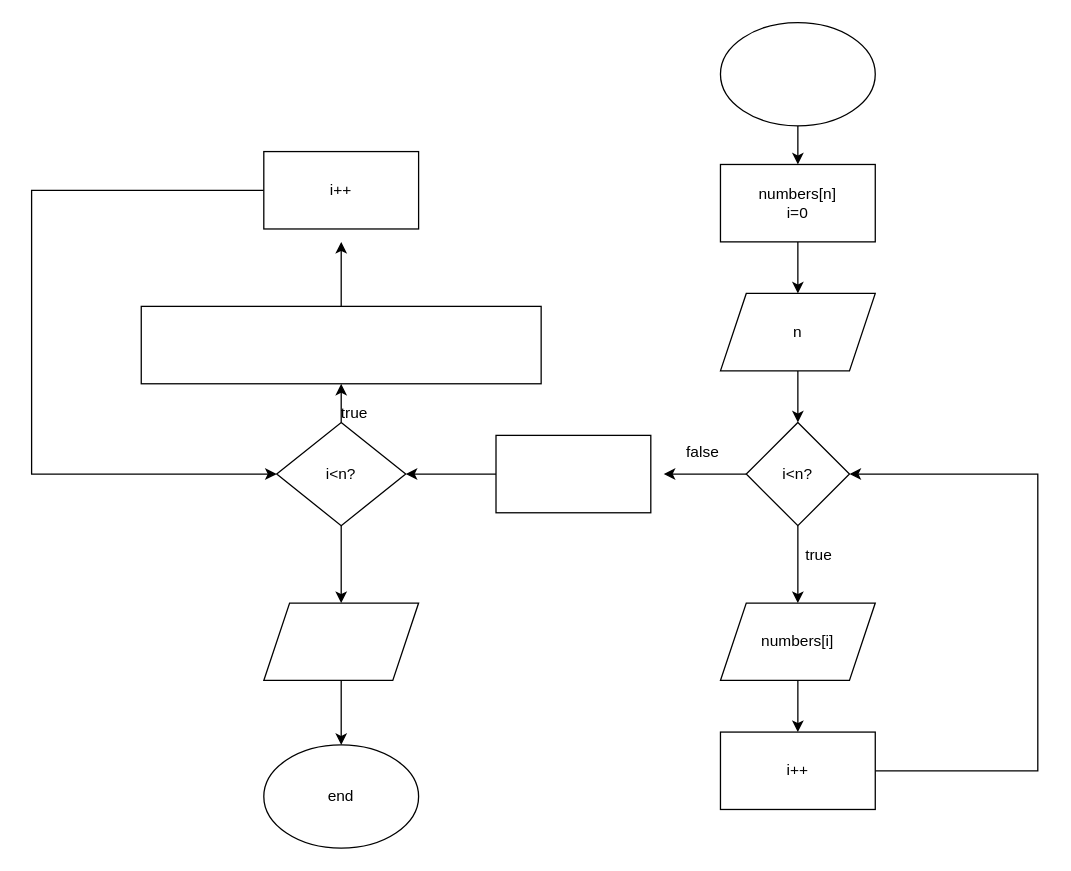
The diagram is 1071 pixels wide and 871 high, and some of its shapes have lost their labels. The centre of each missing label's shape, as x and y in pixels:
"max.min" goes at point (341, 641).
"max=(max<numbers[i])?numbers[i]:max min=(min>numbers[i]:numbers[i]:min" goes at point (340, 344).
"max=numbers[0] min=numbers[0]" goes at point (573, 473).
"start" goes at point (797, 73).
